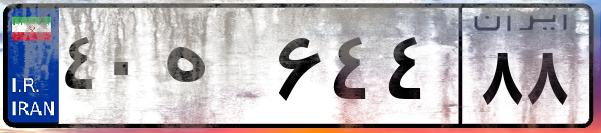0: (110, 28, 158, 98)
4: (385, 28, 445, 110), (330, 28, 385, 110), (57, 26, 110, 100)
6: (270, 28, 330, 110)
8: (475, 38, 525, 113), (525, 38, 570, 115)
ه: (158, 20, 270, 120)
